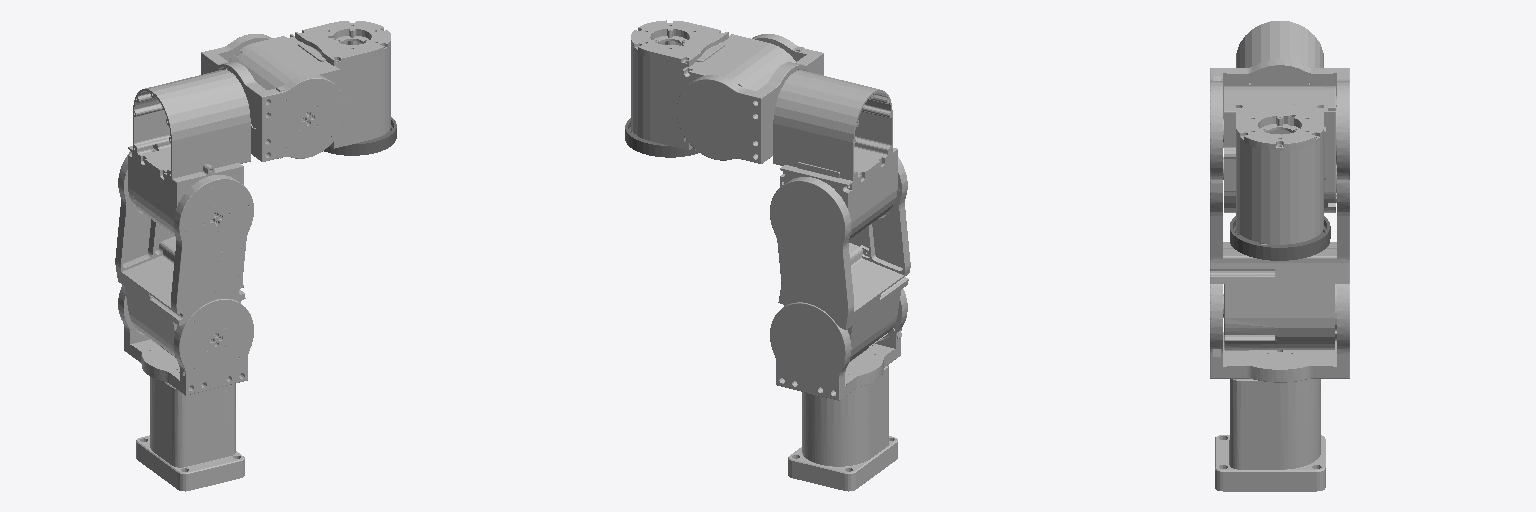
robot.urdf — Assy-Arm-R12:
<?xml version="1.0" encoding="utf-8"?>
<!-- This URDF was automatically created by SolidWorks to URDF Exporter! Originally created by [author] ([email redacted]) 
     Commit Version: 1.6.0-4-g7f85cfe  Build Version: 1.6.7995.38578
     For more information, please see http://wiki.ros.org/sw_urdf_exporter -->
<robot
  name="Assy-Arm-R12">
  <link
    name="Baselink">
    <inertial>
      <origin
        xyz="0.000146598539106413 -0.00766690223613902 0.0437724556631855"
        rpy="0 0 0" />
      <mass
        value="0.359877210173579" />
      <inertia
        ixx="0.000734977612354574"
        ixy="1.30464708485965E-06"
        ixz="-2.23557586324326E-06"
        iyy="0.000642386562515564"
        iyz="-8.06432369242616E-06"
        izz="0.000582854751812961" />
    </inertial>
    <visual>
      <origin
        xyz="0 0 0"
        rpy="0 0 0" />
      <geometry>
        <mesh
          filename="package://Assy-Arm-R12/meshes/Baselink.STL" />
      </geometry>
      <material
        name="">
        <color
          rgba="0.752941176470588 0.752941176470588 0.752941176470588 1" />
      </material>
    </visual>
    <collision>
      <origin
        xyz="0 0 0"
        rpy="0 0 0" />
      <geometry>
        <mesh
          filename="package://Assy-Arm-R12/meshes/Baselink.STL" />
      </geometry>
    </collision>
  </link>
  <link
    name="Link_1">
    <inertial>
      <origin
        xyz="-1.76523320690241E-07 0.00312953220534461 0.0206478334098213"
        rpy="0 0 0" />
      <mass
        value="0.351965922013747" />
      <inertia
        ixx="0.000343552809003485"
        ixy="4.51722304982128E-08"
        ixz="-1.42162194384918E-08"
        iyy="0.000400899791130973"
        iyz="8.44358465310979E-07"
        izz="0.000376283863175887" />
    </inertial>
    <visual>
      <origin
        xyz="0 0 0"
        rpy="0 0 0" />
      <geometry>
        <mesh
          filename="package://Assy-Arm-R12/meshes/Link_1.STL" />
      </geometry>
      <material
        name="">
        <color
          rgba="0.752941176470588 0.752941176470588 0.752941176470588 1" />
      </material>
    </visual>
    <collision>
      <origin
        xyz="0 0 0"
        rpy="0 0 0" />
      <geometry>
        <mesh
          filename="package://Assy-Arm-R12/meshes/Link_1.STL" />
      </geometry>
    </collision>
  </link>
  <joint
    name="joint1"
    type="revolute">
    <origin
      xyz="0 0 0.11808"
      rpy="0 0 0" />
    <parent
      link="Baselink" />
    <child
      link="Link_1" />
    <axis
      xyz="0 0 1" />
    <limit
      lower="-3.054"
      upper="3.054"
      effort="18"
      velocity="3.5" />
  </joint>
  <link
    name="Link2">
    <inertial>
      <origin
        xyz="-0.00162647834548869 0.0506784360428218 -0.000622775864782873"
        rpy="0 0 0" />
      <mass
        value="0.670631323846564" />
      <inertia
        ixx="0.00235889707310522"
        ixy="-9.89852660262641E-06"
        ixz="3.94967603648702E-06"
        iyy="0.000692597980072646"
        iyz="2.24669767487599E-05"
        izz="0.00261097953476062" />
    </inertial>
    <visual>
      <origin
        xyz="0 0 0"
        rpy="0 0 0" />
      <geometry>
        <mesh
          filename="package://Assy-Arm-R12/meshes/Link2.STL" />
      </geometry>
      <material
        name="">
        <color
          rgba="0.752941176470588 0.752941176470588 0.752941176470588 1" />
      </material>
    </visual>
    <collision>
      <origin
        xyz="0 0 0"
        rpy="0 0 0" />
      <geometry>
        <mesh
          filename="package://Assy-Arm-R12/meshes/Link2.STL" />
      </geometry>
    </collision>
  </link>
  <joint
    name="Joint2"
    type="revolute">
    <origin
      xyz="0 0 0.0478"
      rpy="1.5708 0 0" />
    <parent
      link="Link_1" />
    <child
      link="Link2" />
    <axis
      xyz="0 0 1" />
    <limit
      lower="-1.4835"
      upper="1.4835"
      effort="18"
      velocity="3.5" />
  </joint>
  <link
    name="Link3">
    <inertial>
      <origin
        xyz="0.0392252108801418 -0.00635916409017901 -0.0010924816286355"
        rpy="0 0 0" />
      <mass
        value="0.585656211493107" />
      <inertia
        ixx="0.00095171818798583"
        ixy="0.000127656170231427"
        ixz="0.000110118219985387"
        iyy="0.00168131488857523"
        iyz="-2.74148523588686E-05"
        izz="0.00174694327932379" />
    </inertial>
    <visual>
      <origin
        xyz="0 0 0"
        rpy="0 0 0" />
      <geometry>
        <mesh
          filename="package://Assy-Arm-R12/meshes/Link3.STL" />
      </geometry>
      <material
        name="">
        <color
          rgba="0.752941176470588 0.752941176470588 0.752941176470588 1" />
      </material>
    </visual>
    <collision>
      <origin
        xyz="0 0 0"
        rpy="0 0 0" />
      <geometry>
        <mesh
          filename="package://Assy-Arm-R12/meshes/Link3.STL" />
      </geometry>
    </collision>
  </link>
  <joint
    name="joint3"
    type="revolute">
    <origin
      xyz="1.9763E-05 0.13668 0"
      rpy="0 0 1.5708" />
    <parent
      link="Link2" />
    <child
      link="Link3" />
    <axis
      xyz="0 0 -1" />
    <limit
      lower="-1.2217"
      upper="2.0944"
      effort="18"
      velocity="3.5" />
  </joint>
  <link
    name="Link4">
    <inertial>
      <origin
        xyz="1.76523320905009E-07 -0.00312953220529408 0.020647833409798"
        rpy="0 0 0" />
      <mass
        value="0.351965922013747" />
      <inertia
        ixx="0.000343552809003488"
        ixy="4.5172230497302E-08"
        ixz="1.42162194388794E-08"
        iyy="0.000400899791130974"
        iyz="-8.44358465310764E-07"
        izz="0.000376283863175889" />
    </inertial>
    <visual>
      <origin
        xyz="0 0 0"
        rpy="0 0 0" />
      <geometry>
        <mesh
          filename="package://Assy-Arm-R12/meshes/Link4.STL" />
      </geometry>
      <material
        name="">
        <color
          rgba="0.752941176470588 0.752941176470588 0.752941176470588 1" />
      </material>
    </visual>
    <collision>
      <origin
        xyz="0 0 0"
        rpy="0 0 0" />
      <geometry>
        <mesh
          filename="package://Assy-Arm-R12/meshes/Link4.STL" />
      </geometry>
    </collision>
  </link>
  <joint
    name="Joint4"
    type="revolute">
    <origin
      xyz="0.0883 -0.0611 0"
      rpy="1.5708 0 0" />
    <parent
      link="Link3" />
    <child
      link="Link4" />
    <axis
      xyz="0 0 1" />
    <limit
      lower="-3.0543"
      upper="3.0543"
      effort="18"
      velocity="3.5" />
  </joint>
  <link
    name="Link5">
    <inertial>
      <origin
        xyz="-0.000674015339277856 -0.0443798519616063 -0.000957120129405527"
        rpy="0 0 0" />
      <mass
        value="0.661800980501873" />
      <inertia
        ixx="0.00176617474504558"
        ixy="-0.000128051428174803"
        ixz="-2.74061982944633E-05"
        iyy="0.000993232953042455"
        iyz="-0.000110209687963971"
        izz="0.00179129587633545" />
    </inertial>
    <visual>
      <origin
        xyz="0 0 0"
        rpy="0 0 0" />
      <geometry>
        <mesh
          filename="package://Assy-Arm-R12/meshes/Link5.STL" />
      </geometry>
      <material
        name="">
        <color
          rgba="0.752941176470588 0.752941176470588 0.752941176470588 1" />
      </material>
    </visual>
    <collision>
      <origin
        xyz="0 0 0"
        rpy="0 0 0" />
      <geometry>
        <mesh
          filename="package://Assy-Arm-R12/meshes/Link5.STL" />
      </geometry>
    </collision>
  </link>
  <joint
    name="Joint5"
    type="revolute">
    <origin
      xyz="0 0 0.0478"
      rpy="-1.5708 0 0" />
    <parent
      link="Link4" />
    <child
      link="Link5" />
    <axis
      xyz="0 0 1" />
    <limit
      lower="-1.4835"
      upper="1.4835"
      effort="18"
      velocity="3.15" />
  </joint>
  <link
    name="Link6">
    <inertial>
      <origin
        xyz="0.000785915601931614 0.000870921245154068 -0.00201993154318297"
        rpy="0 0 0" />
      <mass
        value="0.0834285933230436" />
      <inertia
        ixx="5.41466020017604E-05"
        ixy="1.32159600407646E-06"
        ixz="1.84896531517861E-08"
        iyy="5.33086894548339E-05"
        iyz="6.74501752073348E-08"
        izz="0.000105563319596962" />
    </inertial>
    <visual>
      <origin
        xyz="0 0 0"
        rpy="0 0 0" />
      <geometry>
        <mesh
          filename="package://Assy-Arm-R12/meshes/Link6.STL" />
      </geometry>
      <material
        name="">
        <color
          rgba="0.498039215686275 0.498039215686275 0.498039215686275 1" />
      </material>
    </visual>
    <collision>
      <origin
        xyz="0 0 0"
        rpy="0 0 0" />
      <geometry>
        <mesh
          filename="package://Assy-Arm-R12/meshes/Link6.STL" />
      </geometry>
    </collision>
  </link>
  <joint
    name="joint6"
    type="revolute">
    <origin
      xyz="-0.0611 -0.0883 0"
      rpy="-1.5708 0 -1.5708" />
    <parent
      link="Link5" />
    <child
      link="Link6" />
    <axis
      xyz="0 0 -1" />
    <limit
      lower="0"
      upper="6.28"
      effort="18"
      velocity="3.15" />
  </joint>
  <link
    name="End effector">
    <inertial>
      <origin
        xyz="-1.90680804479371E-14 -4.96566698988232E-14 0.0121850926538739"
        rpy="0 0 0" />
      <mass
        value="7.91157749929027E-05" />
      <inertia
        ixx="2.83512069329633E-09"
        ixy="7.09579332453067E-27"
        ixz="2.14856197712406E-23"
        iyy="2.83512069329633E-09"
        iyz="3.7962182730065E-23"
        izz="7.70475598292895E-11" />
    </inertial>
    <visual>
      <origin
        xyz="0 0 0"
        rpy="0 0 0" />
      <geometry>
        <mesh
          filename="package://Assy-Arm-R12/meshes/End effector.STL" />
      </geometry>
      <material
        name="">
        <color
          rgba="0.792156862745098 0.819607843137255 0.933333333333333 1" />
      </material>
    </visual>
    <collision>
      <origin
        xyz="0 0 0"
        rpy="0 0 0" />
      <geometry>
        <mesh
          filename="package://Assy-Arm-R12/meshes/End effector.STL" />
      </geometry>
    </collision>
  </link>
  <joint
    name="Needle tip"
    type="fixed">
    <origin
      xyz="0 0 -0.02715"
      rpy="0 0 0" />
    <parent
      link="Link6" />
    <child
      link="End effector" />
    <axis
      xyz="0 0 0" />
  </joint>
</robot>

--- Facts derived from the render (not from the file) ---
Views: 3 orthographic renders of the robot side by side, from view 1: azimuth 30°, elevation 25°; view 2: azimuth 150°, elevation 25°; view 3: azimuth 270°, elevation 25°.
Robot: Assy-Arm-R12 — 8 links, 7 joints (6 revolute, 1 fixed); root link Baselink; default pose: all joints at 0.
Visible links, largest first — view 1: Link2, Link3, Link5, Baselink, Link4, Link_1, Link6; view 2: Link2, Link3, Link5, Baselink, Link4, Link_1, Link6; view 3: Link5, Link2, Baselink, Link_1, Link4, Link3, Link6.
Boxes of the visible links, x1,y1,x2,y2 form: Link2: [115, 151, 253, 357]; Link3: [128, 70, 250, 236]; Link5: [228, 21, 390, 148]; Baselink: [136, 377, 244, 491]; Link4: [201, 34, 345, 161]; Link_1: [118, 285, 253, 395]; Link6: [324, 117, 396, 155]; Link2: [770, 157, 910, 361]; Link3: [773, 70, 897, 239]; Link5: [631, 20, 795, 149]; Baselink: [788, 365, 897, 491]; Link4: [677, 34, 823, 163]; Link_1: [770, 289, 907, 400]; Link6: [625, 118, 698, 157]; Link5: [1223, 86, 1336, 244]; Link2: [1210, 165, 1349, 350]; Baselink: [1215, 379, 1325, 491]; Link_1: [1210, 284, 1349, 382]; Link4: [1210, 59, 1349, 179]; Link3: [1223, 21, 1336, 212]; Link6: [1230, 216, 1330, 260].
Bounding box of the posed robot: 0.2906 × 0.126 × 0.4376 m (x, y, z).
8 mesh visuals loaded from 8 distinct referenced files (8 binary STL).